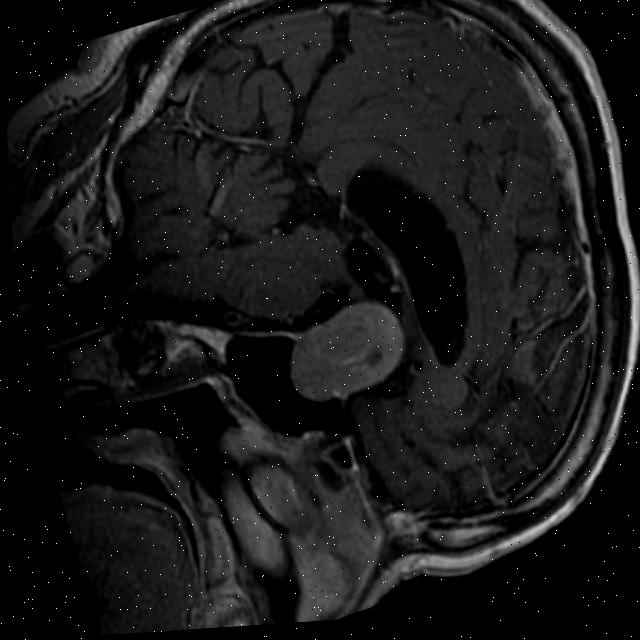Pituitary: (274, 290, 417, 414)
